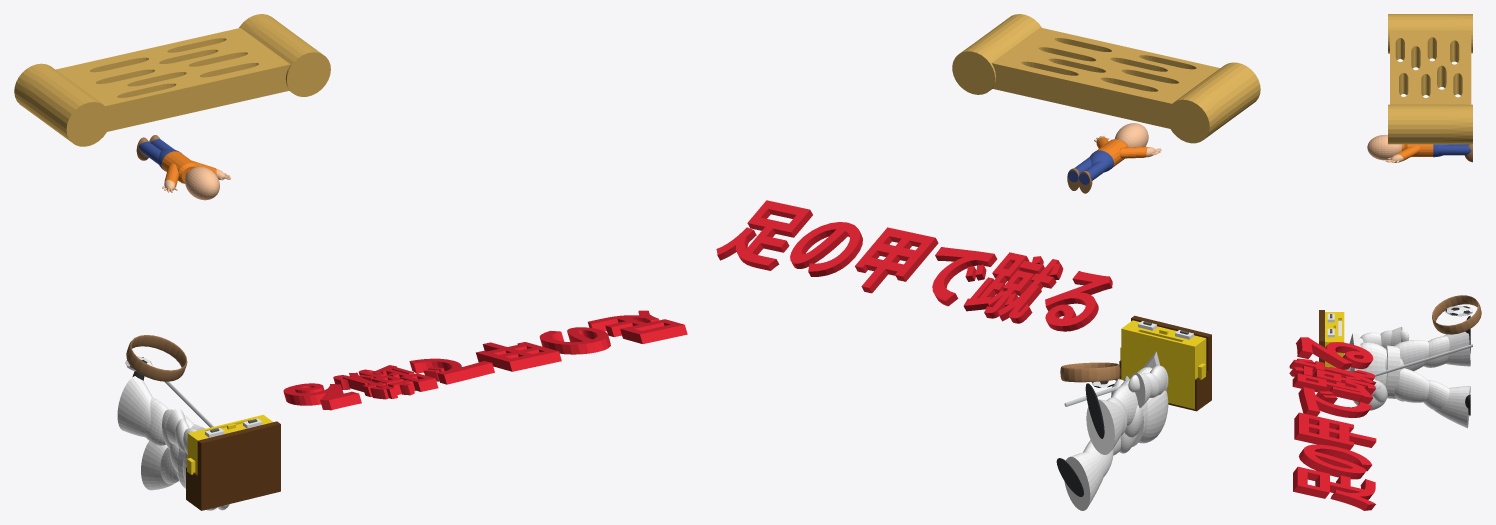
The model's file is tinker.obj.
3 views of the same model, side by side, from view 1: azimuth 30°, elevation 25°; view 2: azimuth 150°, elevation 25°; view 3: azimuth 270°, elevation 25° (orthographic). The views are drawn at different scales.
Visible parts, largest first — view 1: group_0_14528853, group_0_15277357, group_0_6306067, group_0_16448250, group_0_11107152, group_0_16500122, group_0_16768282, group_0_16089887; view 2: group_0_14528853, group_0_15277357, group_0_16448250, group_0_16768282, group_0_11107152, group_0_6306067, group_0_2829873, group_0_3888547, group_0_16089887, group_0_16500122; view 3: group_0_14528853, group_0_15277357, group_0_16448250, group_0_11107152, group_0_16500122, group_0_16768282, group_0_16089887, group_0_3888547, group_0_14541540, group_0_6306067, group_0_2829873.
Part boxes in pixels (left/top/right/bottom): group_0_14528853: left=14, top=14, right=330, bottom=146; group_0_15277357: left=283, top=310, right=687, bottom=410; group_0_6306067: left=186, top=421, right=280, bottom=510; group_0_16448250: left=117, top=357, right=262, bottom=510; group_0_11107152: left=126, top=135, right=187, bottom=381; group_0_16500122: left=162, top=166, right=231, bottom=200; group_0_16768282: left=187, top=414, right=273, bottom=474; group_0_16089887: left=161, top=151, right=216, bottom=187; group_0_14528853: left=952, top=14, right=1260, bottom=143; group_0_15277357: left=716, top=200, right=1112, bottom=331; group_0_16448250: left=1064, top=321, right=1193, bottom=510; group_0_16768282: left=1120, top=320, right=1206, bottom=409; group_0_11107152: left=1060, top=168, right=1120, bottom=382; group_0_6306067: left=1119, top=315, right=1211, bottom=411; group_0_2829873: left=1056, top=379, right=1117, bottom=496; group_0_3888547: left=1067, top=150, right=1113, bottom=184; group_0_16089887: left=1096, top=137, right=1147, bottom=167; group_0_16500122: left=1094, top=123, right=1161, bottom=157; group_0_14528853: left=1388, top=14, right=1472, bottom=144; group_0_15277357: left=1289, top=337, right=1376, bottom=510; group_0_16448250: left=1327, top=305, right=1472, bottom=428; group_0_11107152: left=1432, top=144, right=1481, bottom=334; group_0_16500122: left=1367, top=134, right=1403, bottom=162; group_0_16768282: left=1325, top=312, right=1344, bottom=367; group_0_16089887: left=1395, top=144, right=1433, bottom=161; group_0_3888547: left=1433, top=144, right=1471, bottom=157; group_0_14541540: left=1374, top=344, right=1472, bottom=376; group_0_6306067: left=1319, top=310, right=1324, bottom=391; group_0_2829873: left=1445, top=306, right=1470, bottom=415.
Bounding box in the file's own units: 233 × 176 × 83.71.
